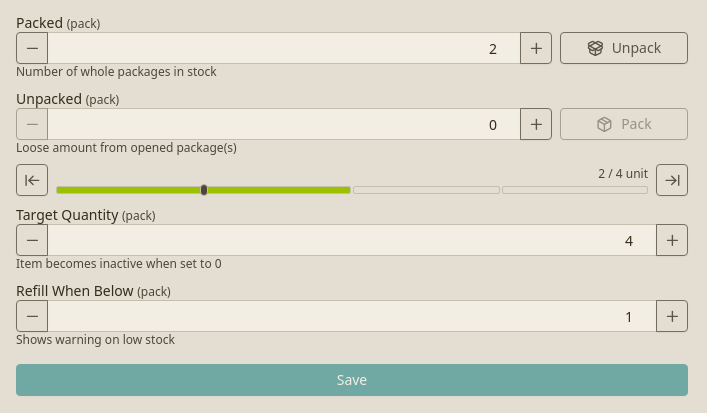
Test case: ItemForm — stock tab progress row previews live form state › raising the refill threshold above the current total flips the status
The image size is (707, 413).
Click the button named "Increase refill threshold" at (672, 316), box x1=656 y1=300 x2=688 y2=332
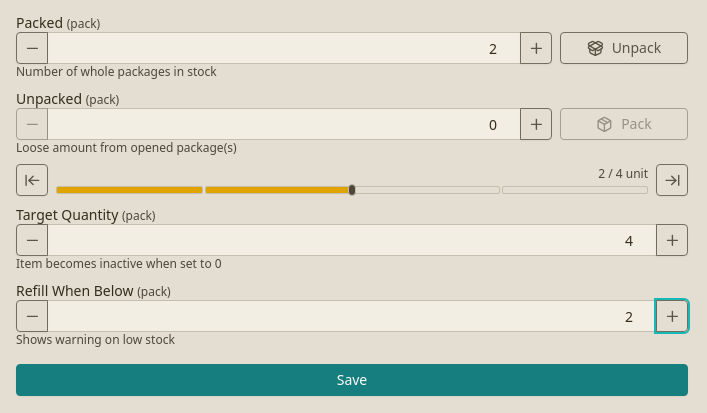
Check: the number field labelled "Refill When Below (pack)" holds "2", box x1=47 y1=300 x2=657 y2=332
